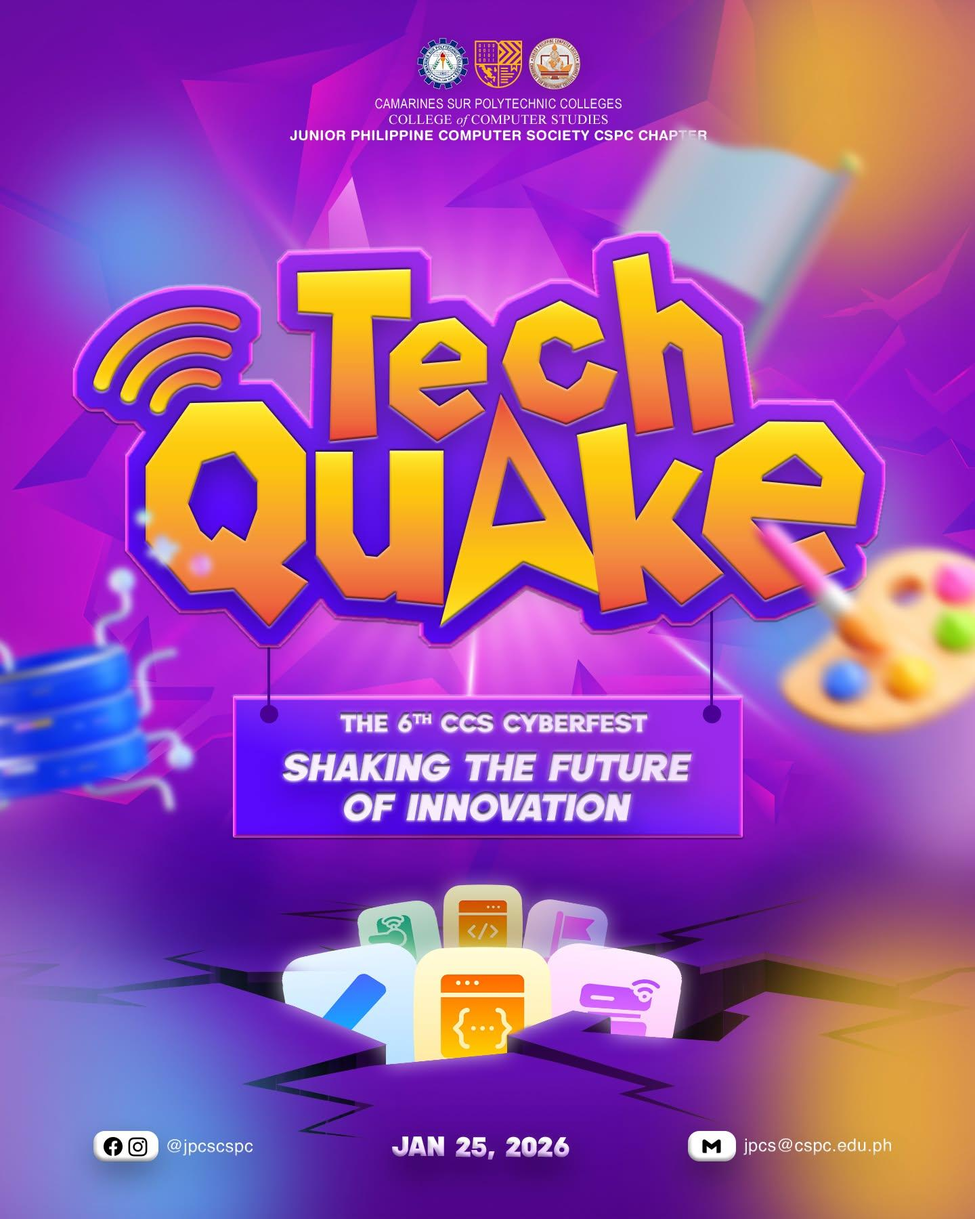embellishment: (99, 1133, 151, 1159), (696, 1130, 729, 1157)
logo: (526, 33, 586, 93), (414, 34, 473, 93), (469, 34, 526, 89)
text: (139, 242, 873, 637), (274, 704, 715, 829), (283, 93, 712, 147), (385, 1126, 579, 1164), (740, 1128, 898, 1158), (163, 1133, 264, 1157)
underlay: (229, 695, 745, 840), (94, 1129, 160, 1161), (686, 1130, 737, 1161)
